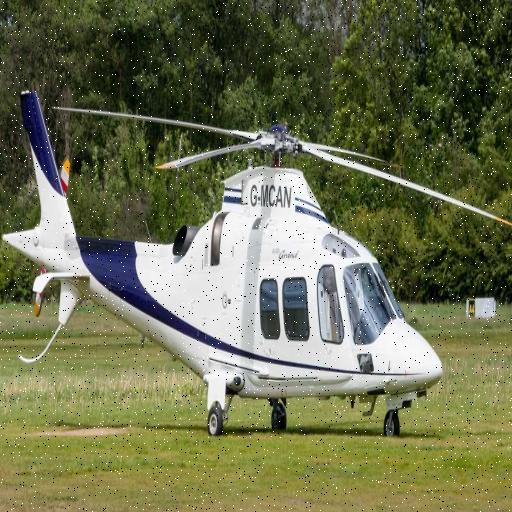helicopter: (3, 76, 479, 448)
